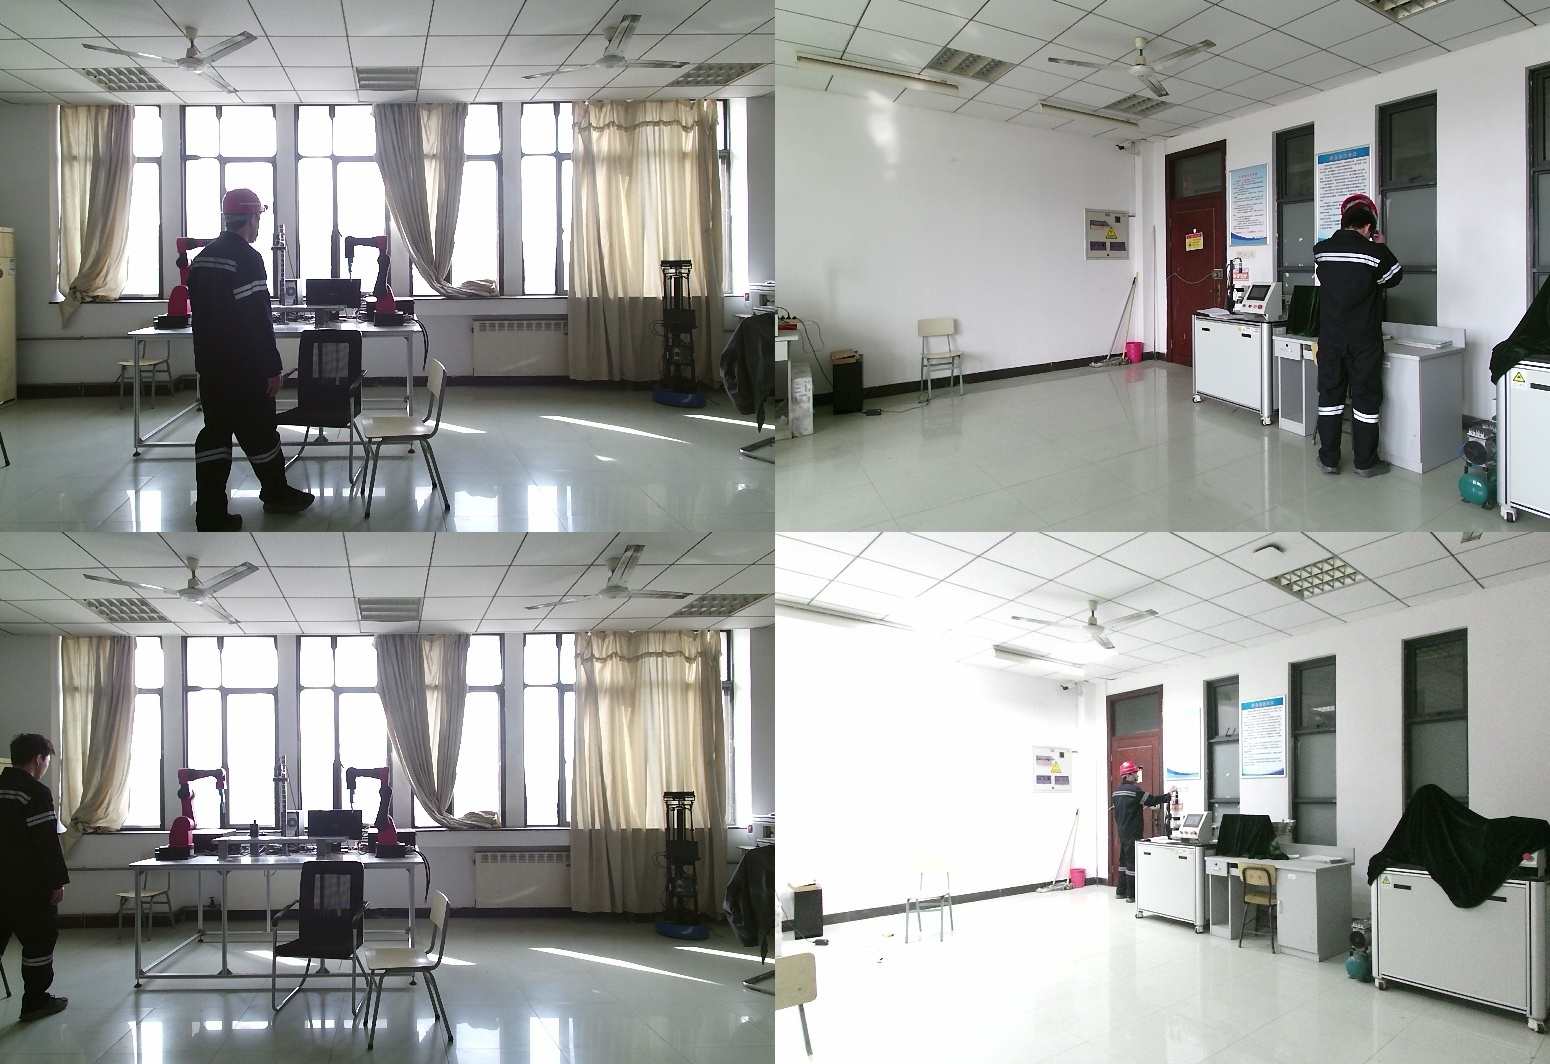person: (182, 187, 312, 532), (1311, 199, 1425, 479), (2, 734, 75, 1030), (1105, 763, 1168, 908)
